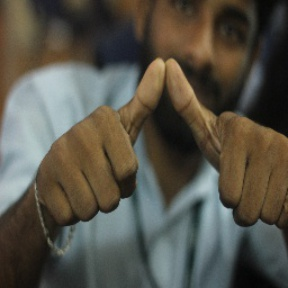A: (88, 56, 252, 209)
